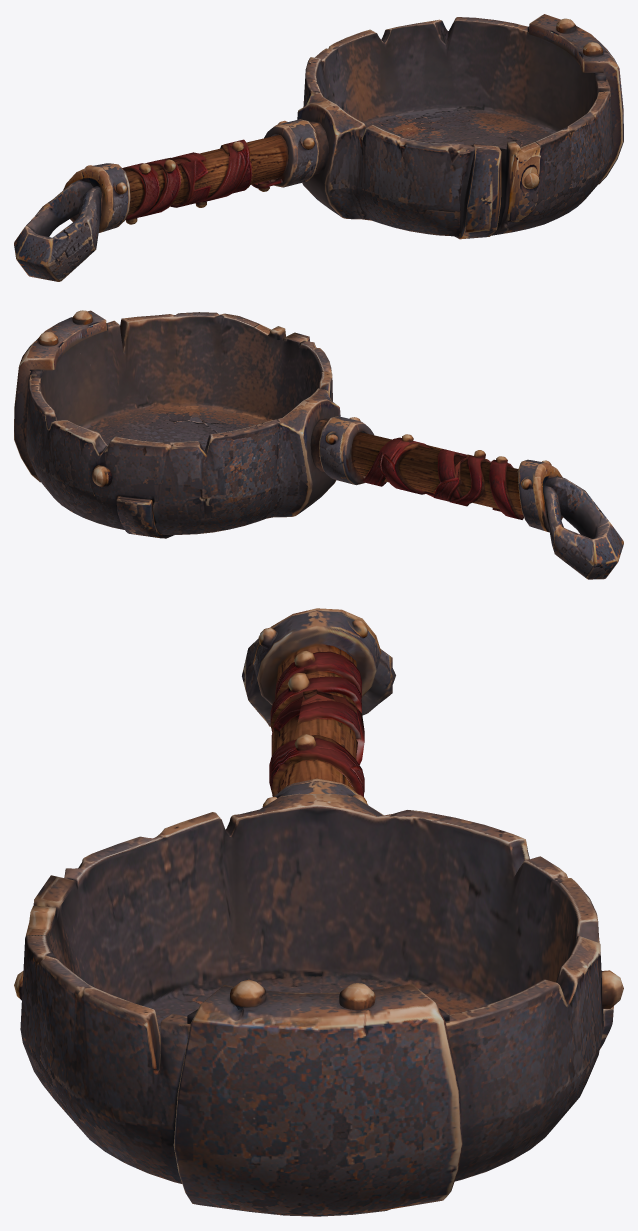
File: frying_pan_1.fbx
3 views of the same model, one above another, from view 1: azimuth 30°, elevation 25°; view 2: azimuth 150°, elevation 25°; view 3: azimuth 270°, elevation 25° (orthographic). The views are drawn at different scales.
Visible parts, largest first — view 1: tripo_node_88d8f562; view 2: tripo_node_88d8f562; view 3: tripo_node_88d8f562.
Part boxes in pixels (bbox=[...]): tripo_node_88d8f562: bbox=[14, 14, 623, 281]; tripo_node_88d8f562: bbox=[14, 310, 623, 579]; tripo_node_88d8f562: bbox=[14, 608, 623, 1216].
Bounding box in the file's own units: 99.95 × 50.73 × 23.58.
1 material, 1 textured.
